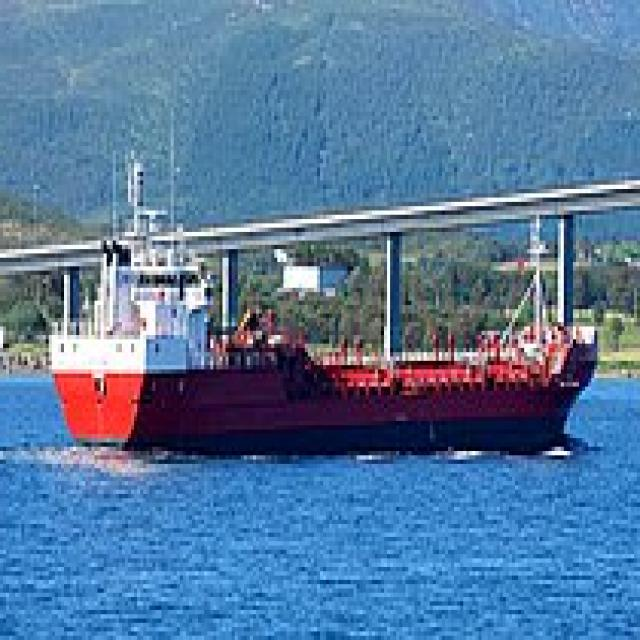Tanker: (49, 146, 606, 451)
